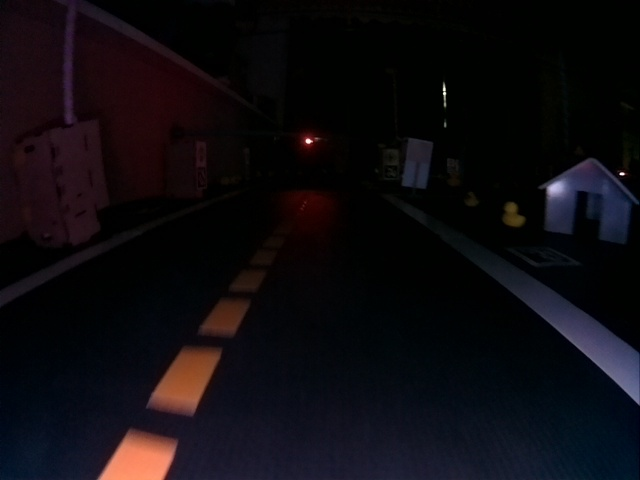Duckie: (502, 201, 526, 227), (464, 192, 478, 206), (448, 172, 461, 185)
QR code: (507, 245, 578, 267), (197, 167, 207, 188), (384, 165, 398, 178)
Traffic light: (301, 136, 315, 147)
